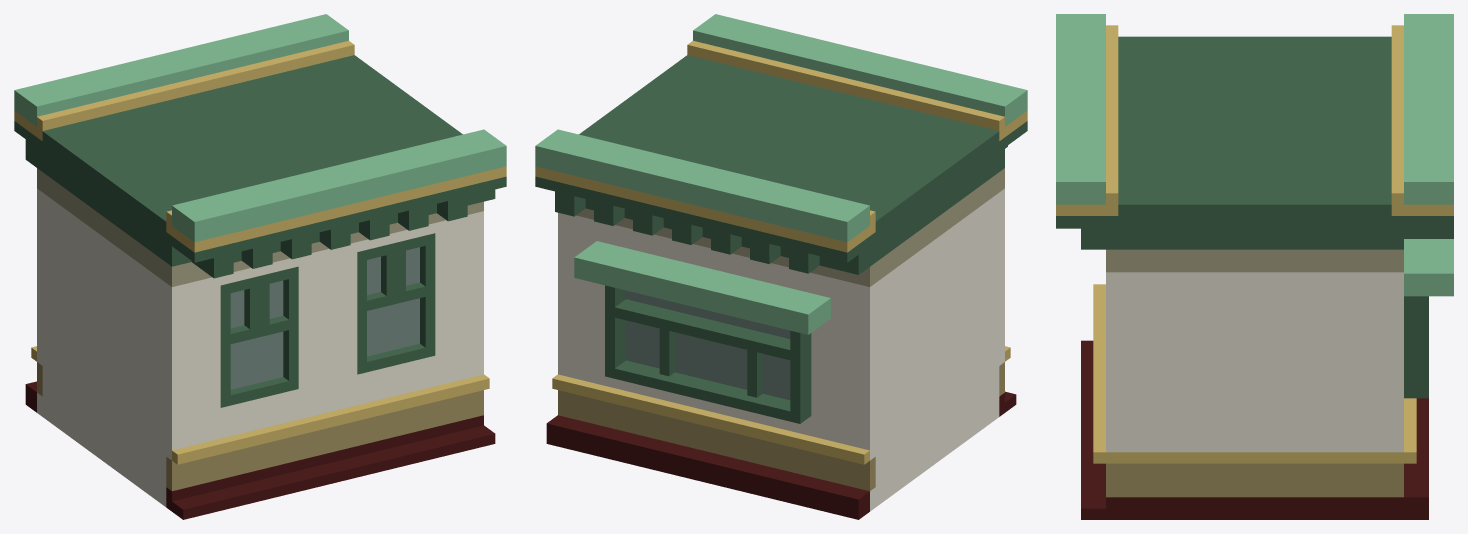
Rendered from tile_1_middle.obj.
3 views of the same model, side by side, from view 1: azimuth 30°, elevation 25°; view 2: azimuth 150°, elevation 25°; view 3: azimuth 270°, elevation 25° (orthographic). The views are drawn at different scales.
Bounding box in the file's own units: 3.2 × 3 × 3.2.
